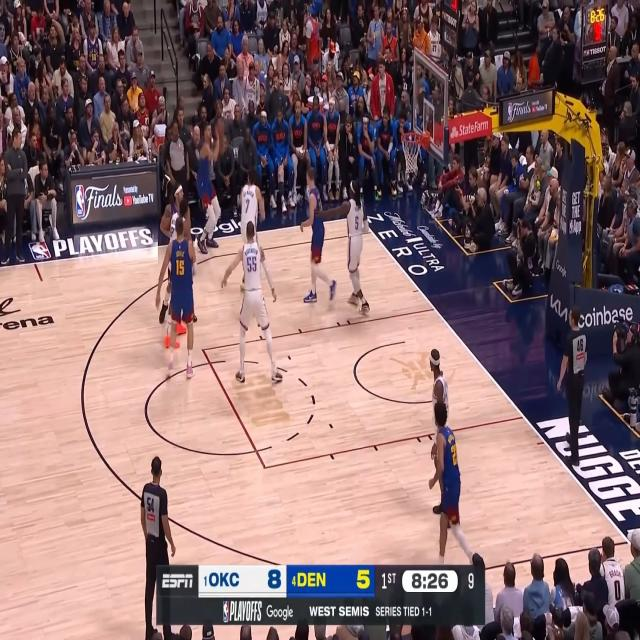ball: (214, 118, 225, 136)
number: (247, 256, 257, 274), (176, 260, 184, 276), (245, 198, 250, 214), (355, 215, 359, 231)
player: (220, 220, 284, 385), (315, 177, 371, 318), (428, 401, 474, 565), (155, 217, 197, 383), (430, 348, 461, 529), (300, 166, 338, 303), (163, 198, 189, 350), (239, 170, 266, 293)
player-jump-shot: (196, 118, 225, 255)
player-screen: (158, 182, 197, 328)
referee: (139, 455, 179, 640), (557, 304, 588, 467), (163, 118, 190, 198)
rim: (401, 132, 424, 142)
